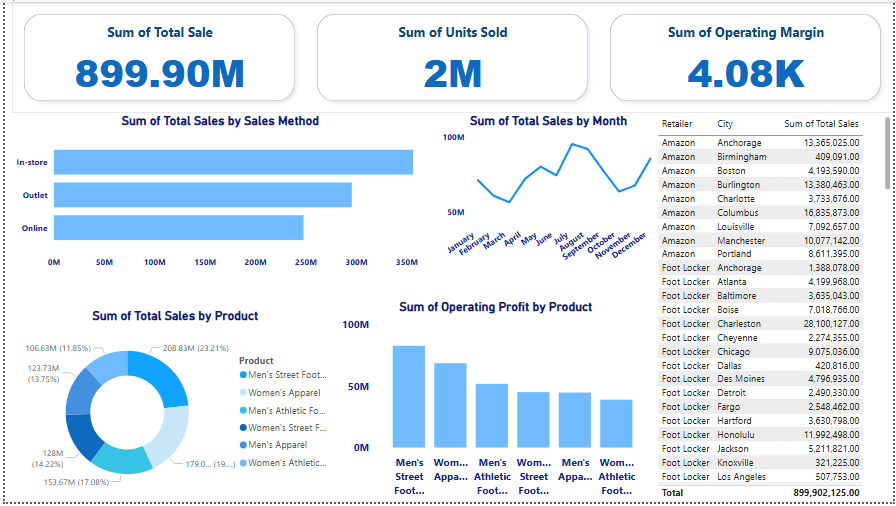

Layout of this report page (visuals, bound fields, positions):
{"tool":"powerbi","page":{"name":"Sales Performance Analysis","canvas":[1280,720],"ordinal":0},"visuals":[{"type":"cardVisual","fields":{"Data":["Sum(Data Sales Adidas.Total Sales)","Sum(Data Sales Adidas.Units Sold)","Sum(Data Sales Adidas.Operating Margin)"]},"box":[10,0,1270,160],"z":0},{"type":"clusteredBarChart","fields":{"Category":["Data Sales Adidas.Sales Method"],"Y":["Sum(Data Sales Adidas.Total Sales)"]},"box":[10,160,600,232.9],"z":1000},{"type":"lineChart","fields":{"Y":["Sum(Data Sales Adidas.Total Sales)"],"Category":["Data Sales Adidas.Invoice Date.Variation.Date Hierarchy.Month"]},"box":[621.4,160,321.4,232.9],"z":2000},{"type":"donutChart","fields":{"Y":["Sum(Data Sales Adidas.Total Sales)"],"Category":["Data Sales Adidas.Product"]},"box":[10,440,470,280],"z":3000},{"type":"clusteredColumnChart","fields":{"Y":["Sum(Data Sales Adidas.Operating Profit)"],"Category":["Data Sales Adidas.Product"]},"box":[480,427.1,454.3,292.9],"z":4000},{"type":"tableEx","fields":{"Values":["Data Sales Adidas.Retailer","Data Sales Adidas.City","Sum(Data Sales Adidas.Total Sales)"]},"box":[934.3,160,345.7,560],"z":5000}]}

Visuals, with their boxes in screenshot pixels (x1, y1, x2, y2), scaled from the page's 1280x720 canvas onto the 896x506 screenshot:
cardVisual - Sum(Data Sales Adidas.Total Sales) x Sum(Data Sales Adidas.Units Sold): (7,0,895,112)
clusteredBarChart - Data Sales Adidas.Sales Method x Sum(Data Sales Adidas.Total Sales): (7,112,427,276)
lineChart - Sum(Data Sales Adidas.Total Sales) x Data Sales Adidas.Invoice Date.Variation.Date Hierarchy.Month: (435,112,660,276)
donutChart - Sum(Data Sales Adidas.Total Sales) x Data Sales Adidas.Product: (7,309,336,505)
clusteredColumnChart - Sum(Data Sales Adidas.Operating Profit) x Data Sales Adidas.Product: (336,300,654,505)
tableEx - Data Sales Adidas.Retailer x Data Sales Adidas.City: (654,112,895,505)
